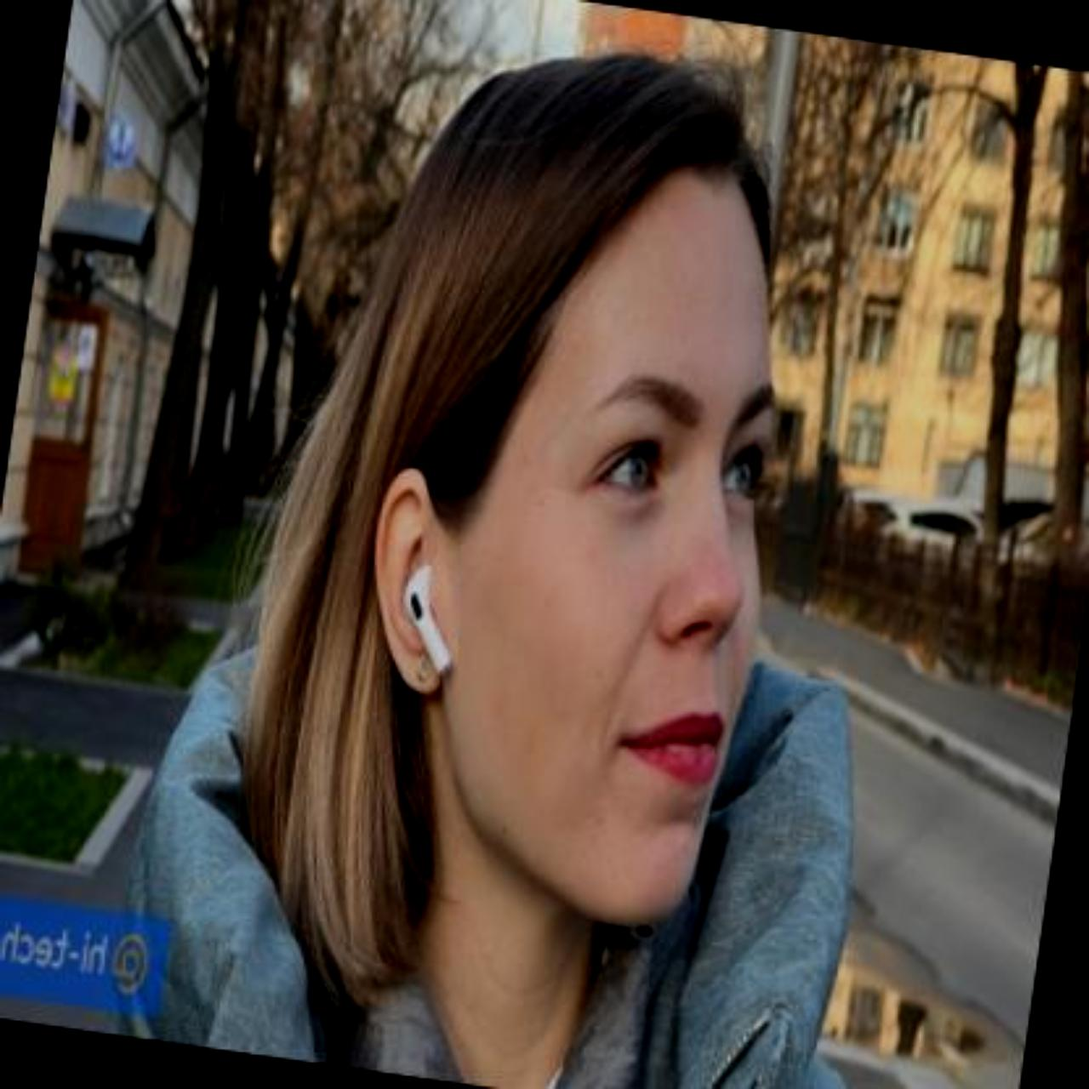Airpods_Units: (383, 554, 464, 681)
